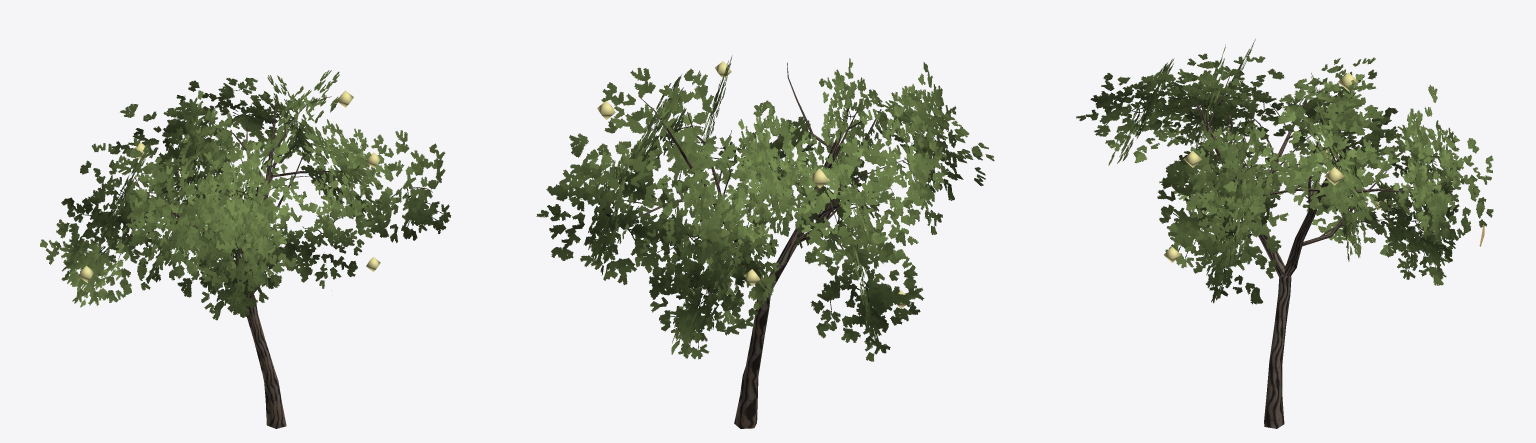
File: young-a.lod1.glb
3 views of the same model, side by side, from view 1: azimuth 30°, elevation 25°; view 2: azimuth 150°, elevation 25°; view 3: azimuth 270°, elevation 25° (orthographic). The views are drawn at different scales.
Visible parts, largest first — view 1: foliage, bark, flowers; view 2: foliage, bark, flowers; view 3: foliage, bark, flowers.
Boxes of the visible parts, bbox=[...] form: foliage: bbox=[40, 70, 450, 320]; bark: bbox=[120, 96, 357, 428]; flowers: bbox=[78, 90, 380, 282]; foliage: bbox=[536, 55, 994, 361]; bark: bbox=[601, 62, 905, 428]; flowers: bbox=[597, 61, 905, 308]; foliage: bbox=[1076, 39, 1493, 304]; bark: bbox=[1179, 75, 1452, 428]; flowers: bbox=[1164, 72, 1386, 262].
Bounding box in the file's own units: 4.29 × 3.8 × 4.21.
4 materials, 3 textured.
